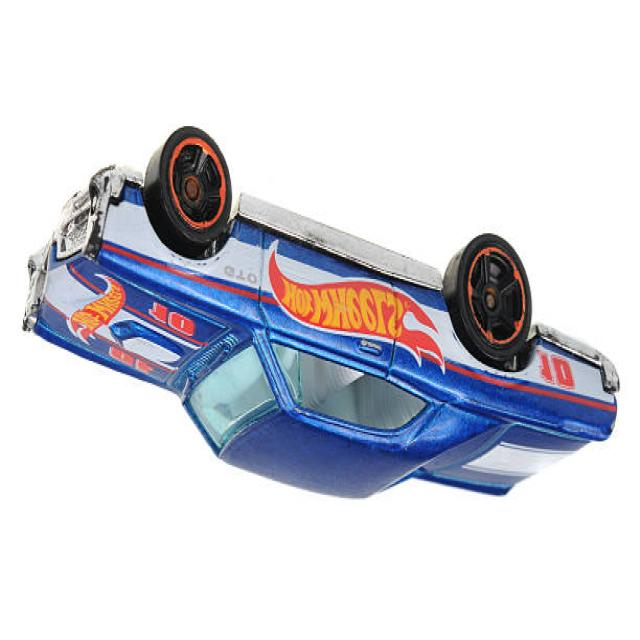Car: (21, 126, 620, 503)
